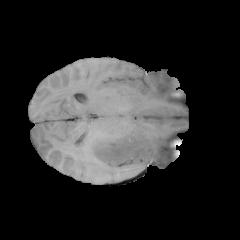glioma: (75, 134, 150, 166)
